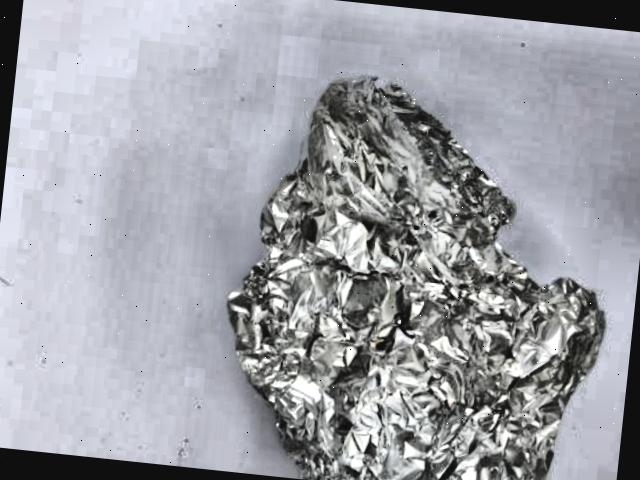Almennt: (190, 51, 634, 480)
